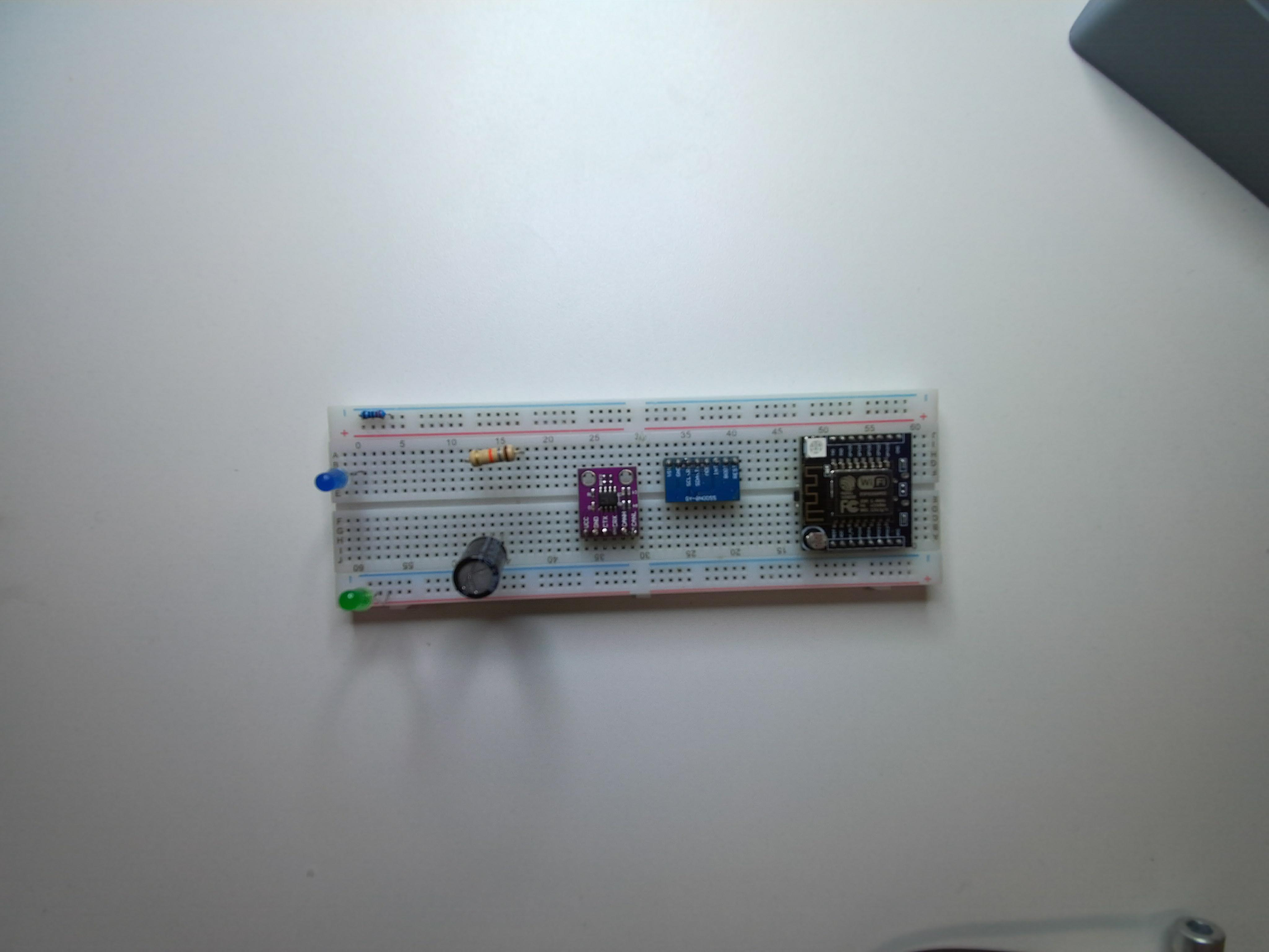base: (320, 388, 942, 621)
blue-board: (661, 454, 742, 507)
blue-led: (311, 467, 351, 495)
capacitor: (449, 535, 507, 601)
esp: (796, 430, 918, 556)
green-led: (336, 584, 372, 621)
purple-board: (576, 462, 640, 543)
resistor-big: (469, 437, 519, 468), (469, 437, 520, 467)
resistor-small: (361, 405, 390, 419)
